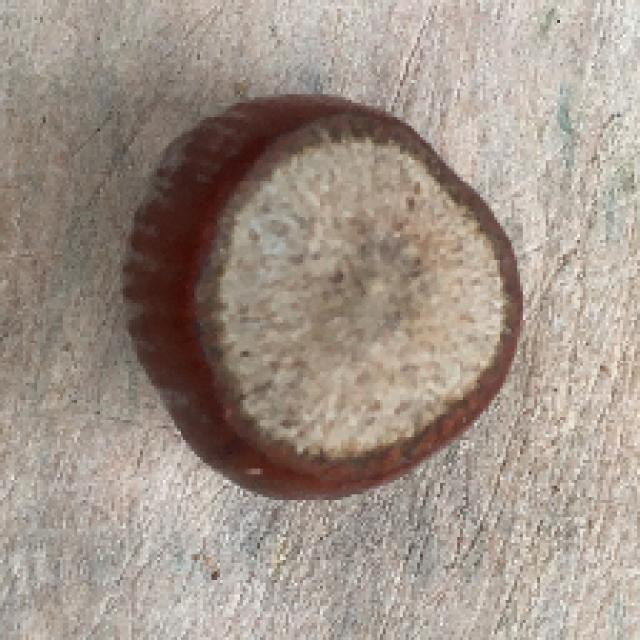qualityHazelnut: (112, 90, 528, 510)
